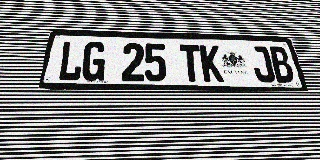2: (122, 43, 144, 82)
5: (145, 43, 167, 82)
B: (268, 47, 296, 83)
G: (81, 42, 107, 81)
J: (249, 46, 276, 83)
K: (199, 45, 224, 82)
L: (56, 41, 85, 81)
T: (179, 44, 203, 82)
